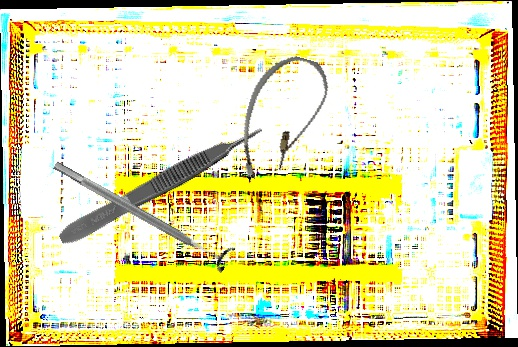Cannula: (229, 47, 336, 192)
Fixation Ring: (47, 150, 237, 275)
Tissue Forceps: (54, 120, 269, 250)
